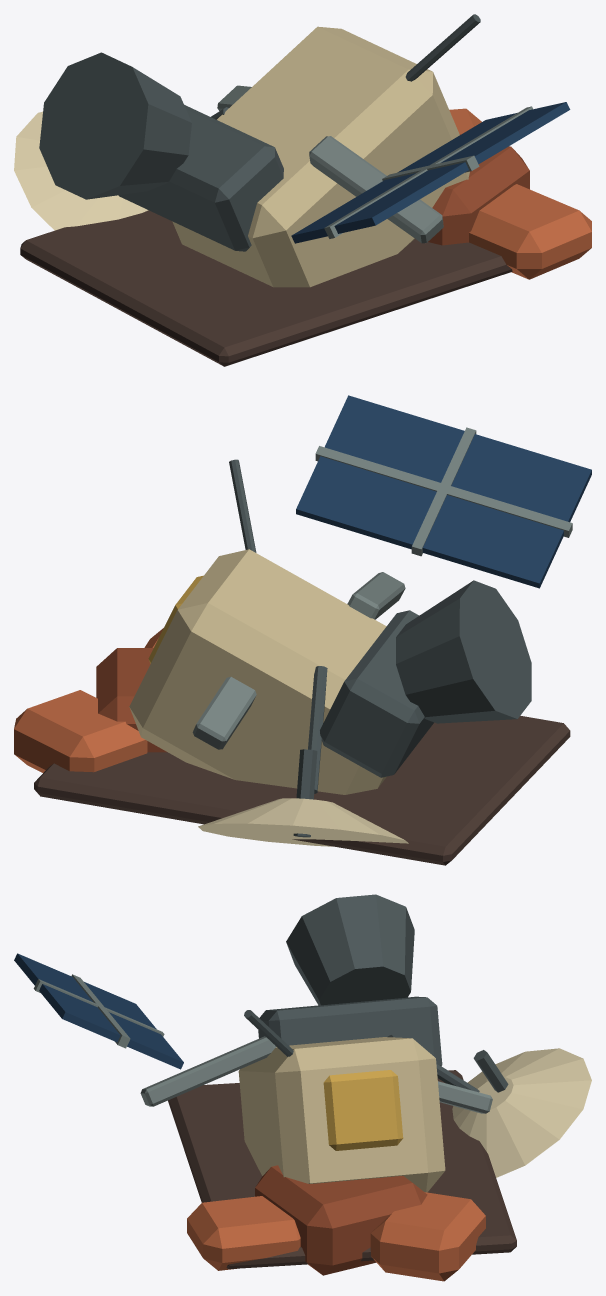
The model's file is ab_satellite_wreck.glb.
3 views of the same model, one above another, from view 1: azimuth 30°, elevation 25°; view 2: azimuth 150°, elevation 25°; view 3: azimuth 270°, elevation 25° (orthographic). The views are drawn at different scales.
Visible parts, largest first — view 1: ab_satellite_wreck; view 2: ab_satellite_wreck; view 3: ab_satellite_wreck.
Part boxes in pixels (bbox=[...]): ab_satellite_wreck: bbox=[14, 14, 591, 366]; ab_satellite_wreck: bbox=[14, 395, 591, 865]; ab_satellite_wreck: bbox=[14, 894, 591, 1281].
Bounding box in the file's own units: 3.07 × 1.81 × 3.69.
